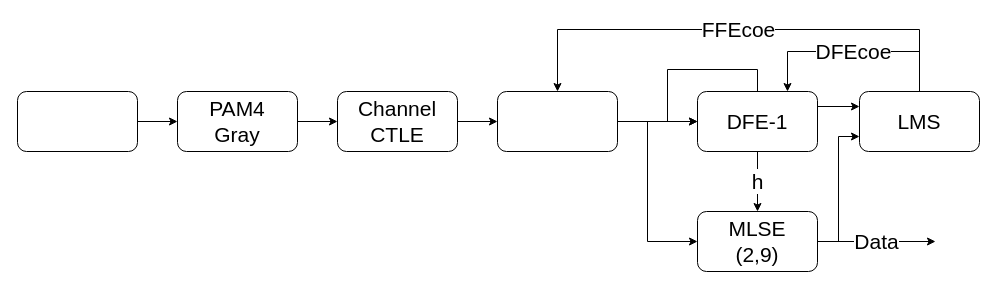
The diagram is 997 pixels wide and 289 high, and some of its shapes have lost their labels. Here are the shapes that lost their labels. From the top down, the centre of each, then its label:
At point (77, 121): "prbs".
At point (557, 121): "FFE-15".
